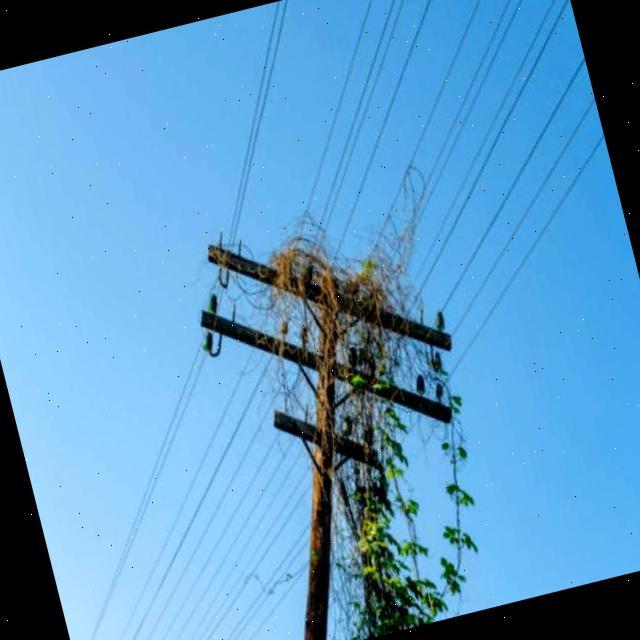critical vegetation: (170, 149, 517, 640)
